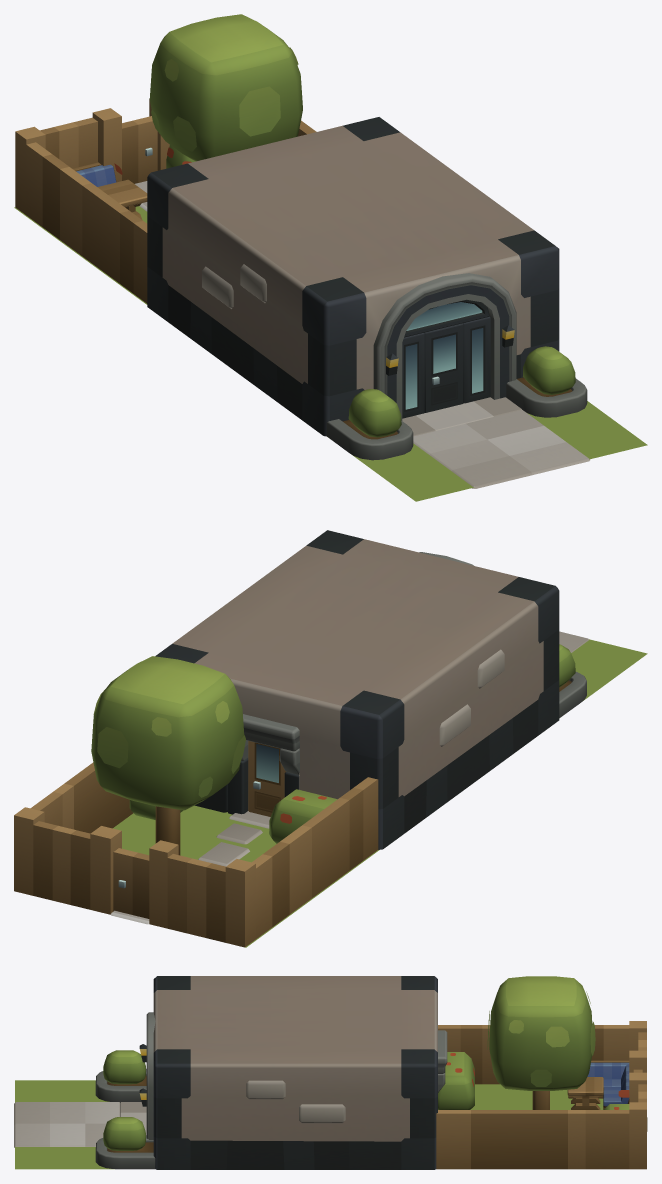
File: appartment_type3_x3_ground_cream.fbx
3 views of the same model, one above another, from view 1: azimuth 30°, elevation 25°; view 2: azimuth 150°, elevation 25°; view 3: azimuth 270°, elevation 25° (orthographic). The views are drawn at different scales.
Parts seen in each view (by area): view 1: appartment_type3_x3_ground_cream, door_front_appartment_type3, door_garden_appartment_type3; view 2: appartment_type3_x3_ground_cream, door_garden_appartment_type3, door_back_appartment_type3; view 3: appartment_type3_x3_ground_cream.
Part boxes in pixels (box(x1,y1,x2,y2)): appartment_type3_x3_ground_cream: box(14, 14, 647, 501); door_front_appartment_type3: box(424, 323, 463, 412); door_garden_appartment_type3: box(122, 116, 157, 183); appartment_type3_x3_ground_cream: box(14, 530, 647, 947); door_garden_appartment_type3: box(113, 848, 149, 918); door_back_appartment_type3: box(248, 741, 285, 816); appartment_type3_x3_ground_cream: box(14, 976, 647, 1169).
Bounding box in the file's own units: 628 × 468 × 1806.
